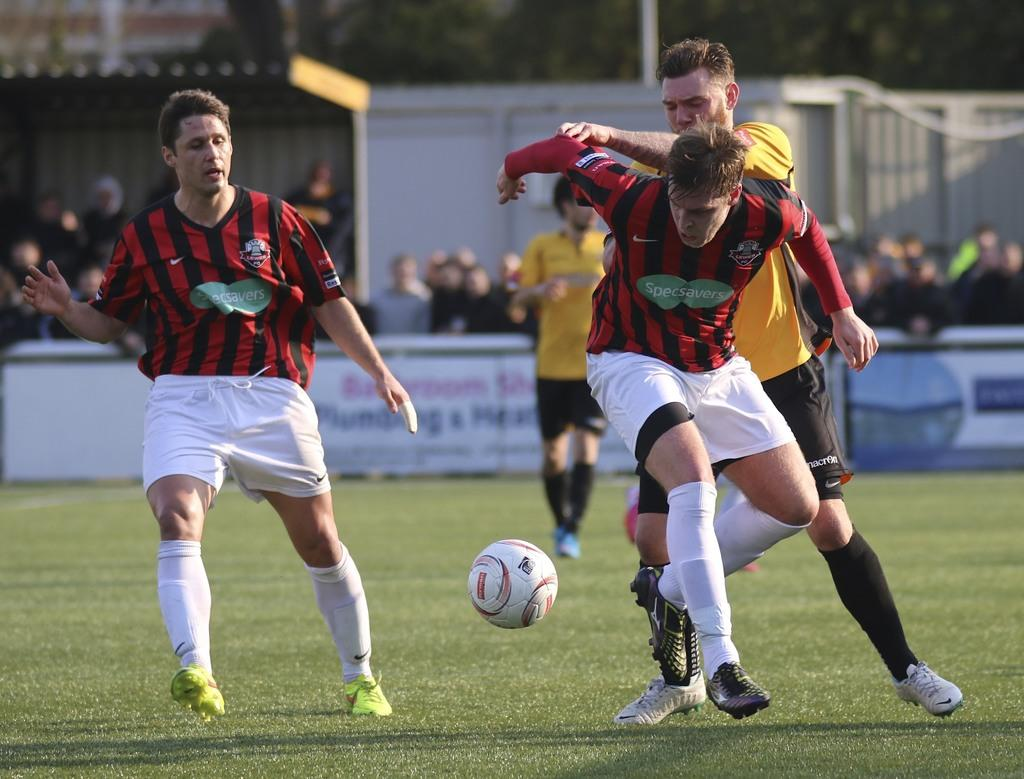Pessoa: (23, 89, 408, 720), (497, 121, 876, 717), (734, 249, 961, 714), (510, 177, 606, 556), (284, 159, 353, 272), (370, 253, 431, 334)
